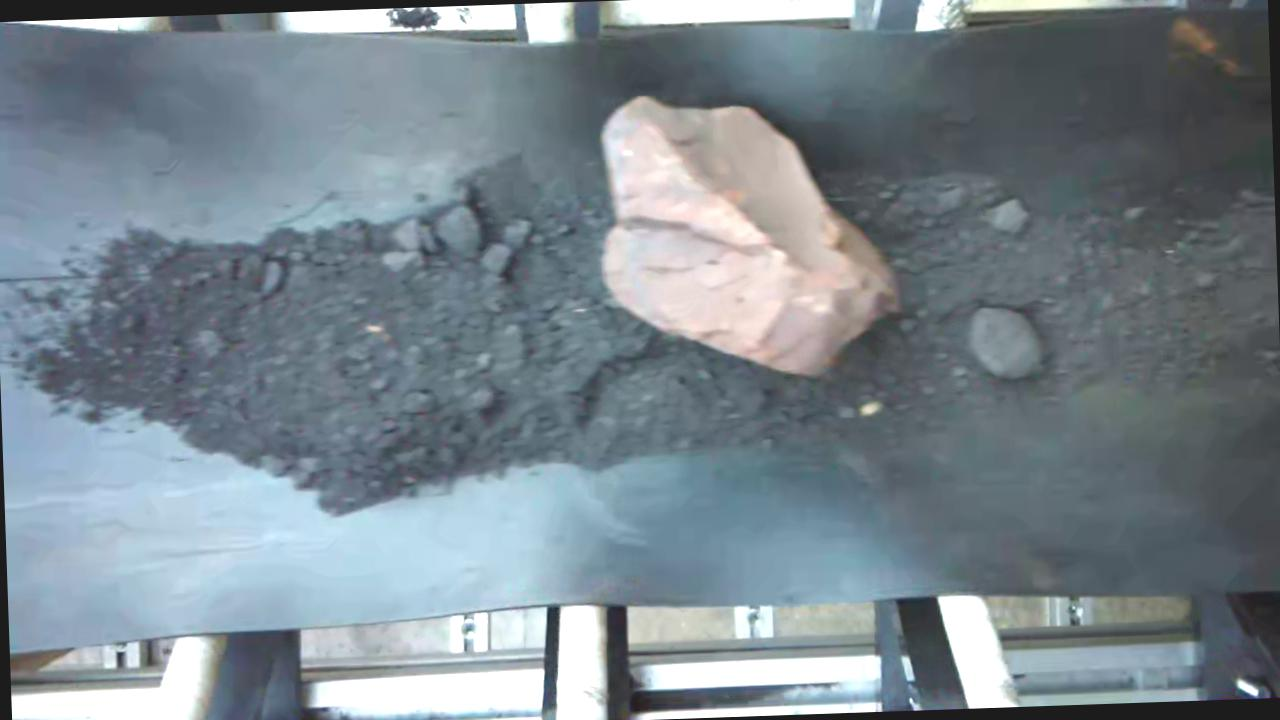conveyor: (0, 22, 1280, 622)
